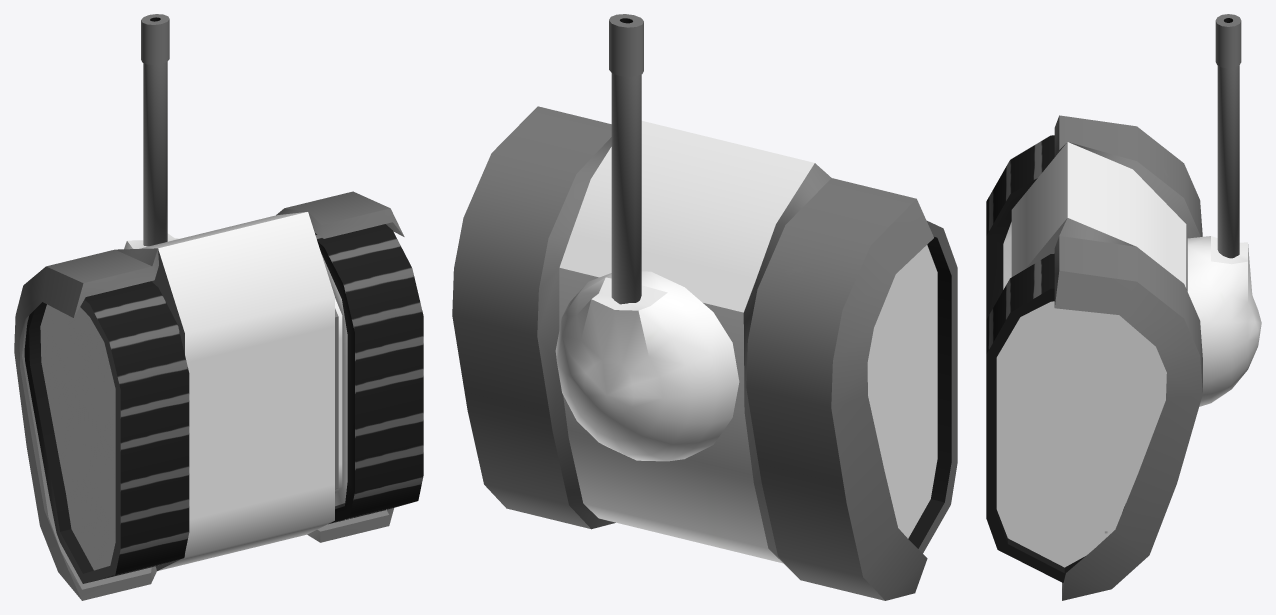
The model's file is Tank.dae.
3 renders of one model, left to right at view 1: azimuth 30°, elevation 25°; view 2: azimuth 150°, elevation 25°; view 3: azimuth 270°, elevation 25°, orthographic. The views are drawn at different scales.
Visible parts, largest first — view 1: Tank, Turret; view 2: Tank, Turret; view 3: Tank, Turret.
Boxes of the visible parts, x1=… form: Tank: x1=14, y1=191, x2=423, y2=600; Turret: x1=124, y1=14, x2=179, y2=249; Tank: x1=452, y1=106, x2=957, y2=600; Turret: x1=555, y1=14, x2=739, y2=461; Tank: x1=986, y1=115, x2=1202, y2=600; Turret: x1=1187, y1=14, x2=1261, y2=406.
Bounding box in the file's own units: 3.1 × 2.16 × 4.34.
Materials: 2 (2 with a texture image).
